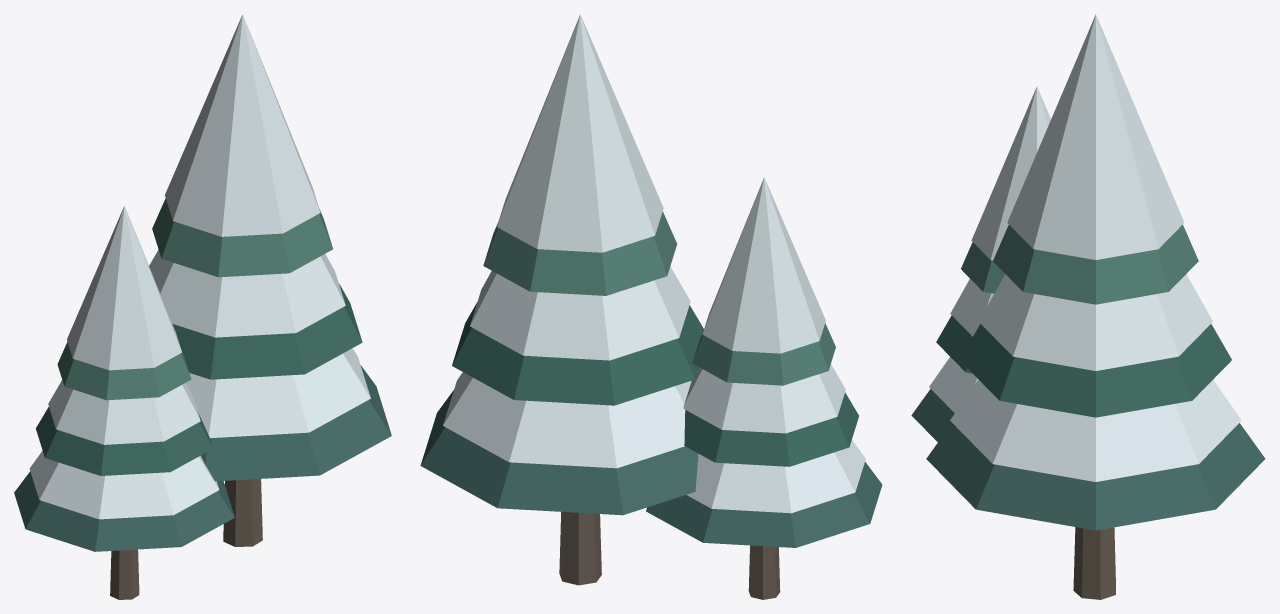
Rendered from snow-spruce.glb.
3 renders of one model, left to right at view 1: azimuth 30°, elevation 25°; view 2: azimuth 150°, elevation 25°; view 3: azimuth 270°, elevation 25°, orthographic. The views are drawn at different scales.
Visible parts, largest first — view 1: snow-spruce; view 2: snow-spruce; view 3: snow-spruce.
Part boxes in pixels (x1,y1,x2,y2): snow-spruce: (14,14,391,599); snow-spruce: (420,14,882,599); snow-spruce: (911,14,1265,599).
Size of the model in its own units: 6.52 by 8.65 by 4.82.
